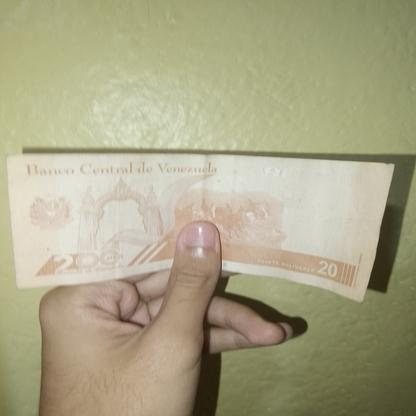twenty-back-vef: (6, 154, 394, 303)
